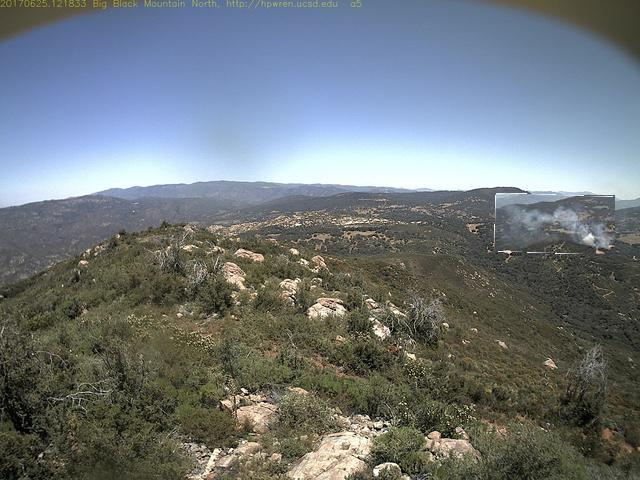smoke: (496, 195, 617, 255)
